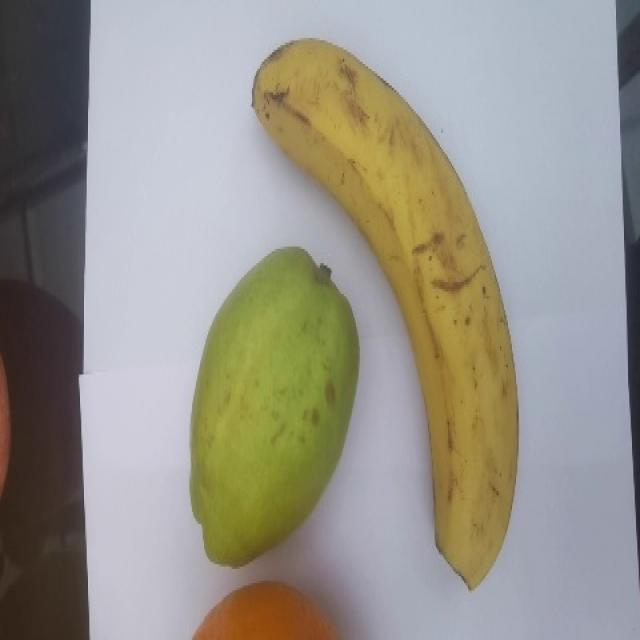Banana: (250, 36, 520, 591)
Orange: (191, 580, 339, 639)
